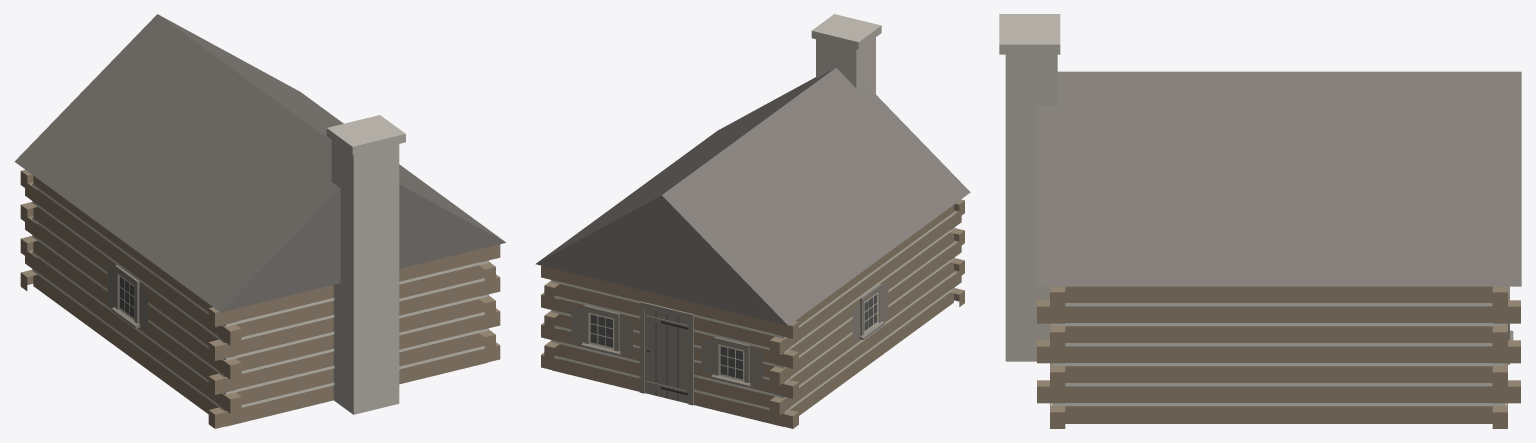
Rendered from recon_1835_south_d1_010__inferred_1835.glb.
The picture shows the model from 3 angles, left to right: view 1: azimuth 30°, elevation 25°; view 2: azimuth 150°, elevation 25°; view 3: azimuth 270°, elevation 25°; orthographic projection. The views are drawn at different scales.
Parts seen in each view (by area): view 1: recon_1835_south_d1_010__inferred_1835; view 2: recon_1835_south_d1_010__inferred_1835; view 3: recon_1835_south_d1_010__inferred_1835.
Boxes of the visible parts, x1,y1,x2,y2 form: recon_1835_south_d1_010__inferred_1835: [14, 14, 505, 428]; recon_1835_south_d1_010__inferred_1835: [535, 14, 970, 428]; recon_1835_south_d1_010__inferred_1835: [999, 14, 1521, 428].
Bounding box in the file's own units: 6 × 5.43 × 8.06.
